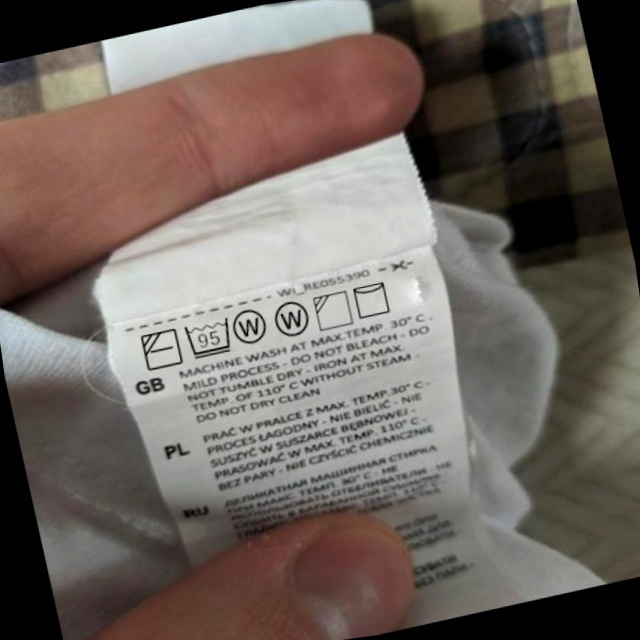95C: (181, 313, 237, 362)
dry_flat_in_shade: (137, 324, 185, 374)
line_dry: (349, 276, 396, 322)
shade_dry: (310, 287, 356, 334)
wet_clean: (229, 301, 273, 349), (270, 296, 314, 343)
